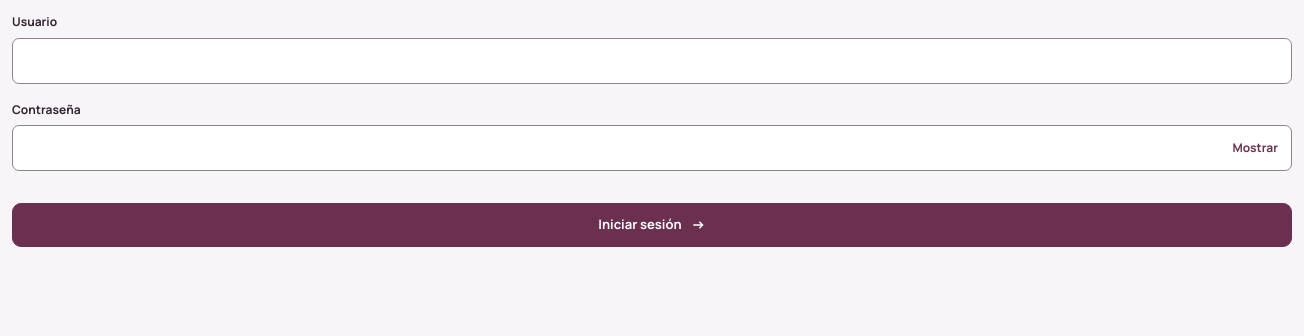
Test: FormularioIngreso › explica que la cuenta está bloqueada y que debe intervenir el gerente
Type "lucia.vega" into the field labelled "Usuario" at (652, 60), box [12,38,1292,84]
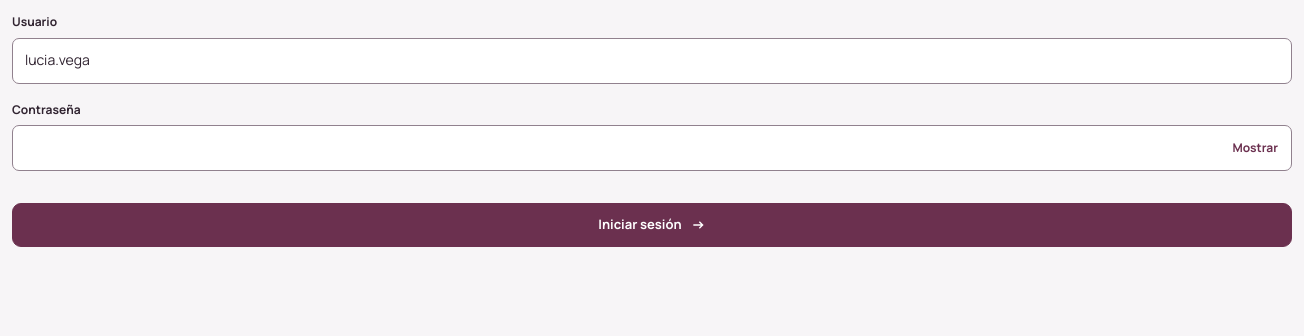
Type "Secreta-2026" into the password field labelled "Contraseña" at (652, 148), box [12,125,1292,171]
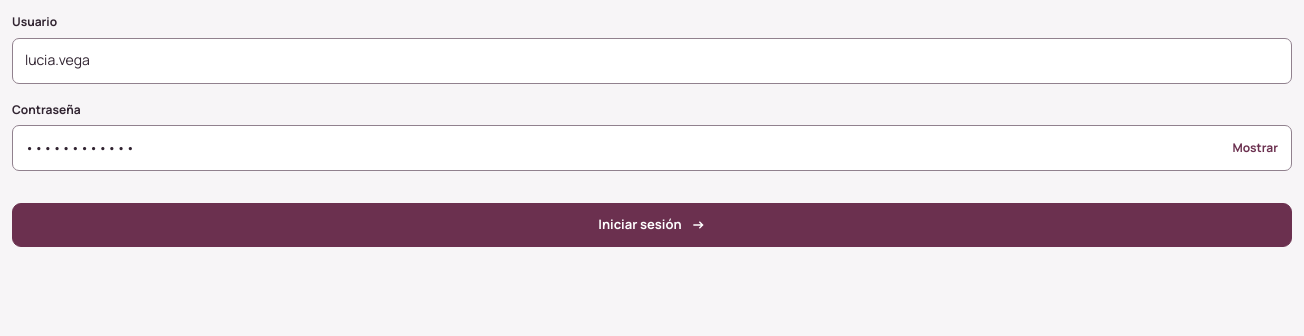
Submit the form
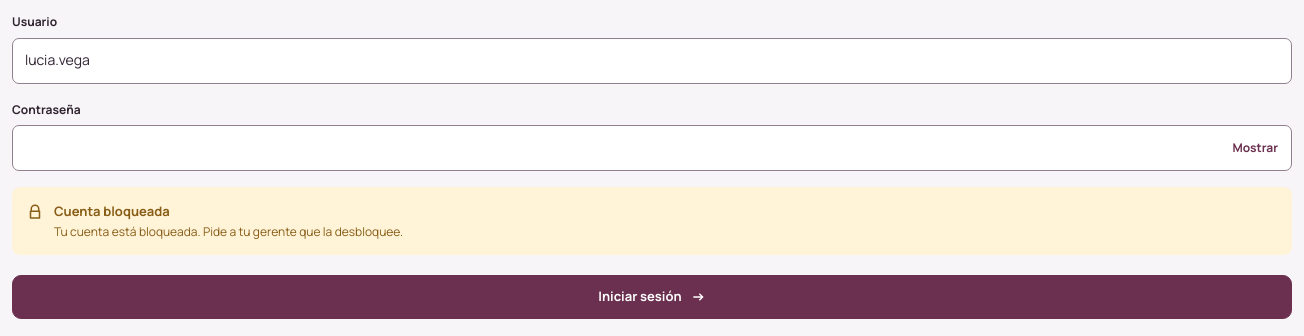
Now the form shows "Cuenta bloqueada", box [54,202,170,220]
Now the form shows "Pide a tu gerente que la desbloquee.", box [54,223,403,240]
